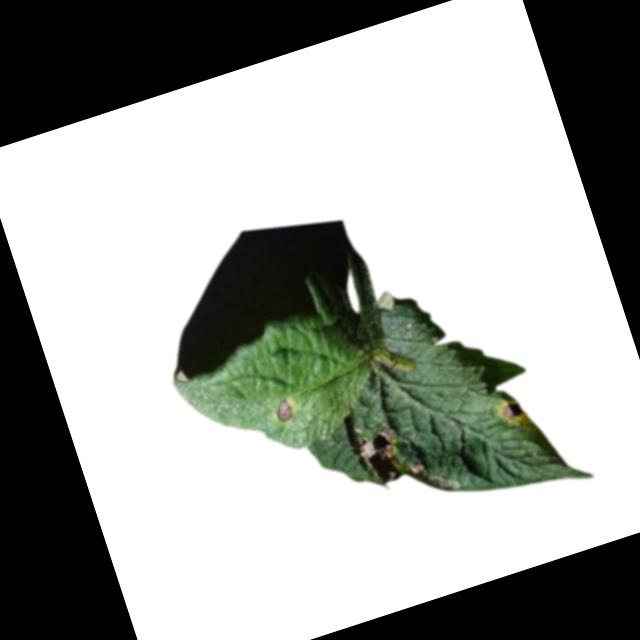Early_blight: (353, 418, 427, 493), (496, 395, 529, 428), (273, 396, 295, 424)
